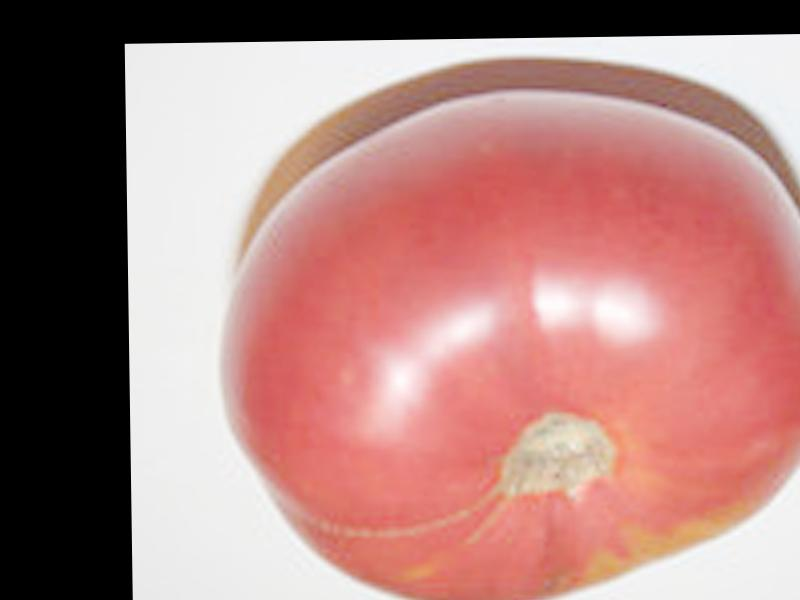Tomato: (214, 100, 800, 600)
